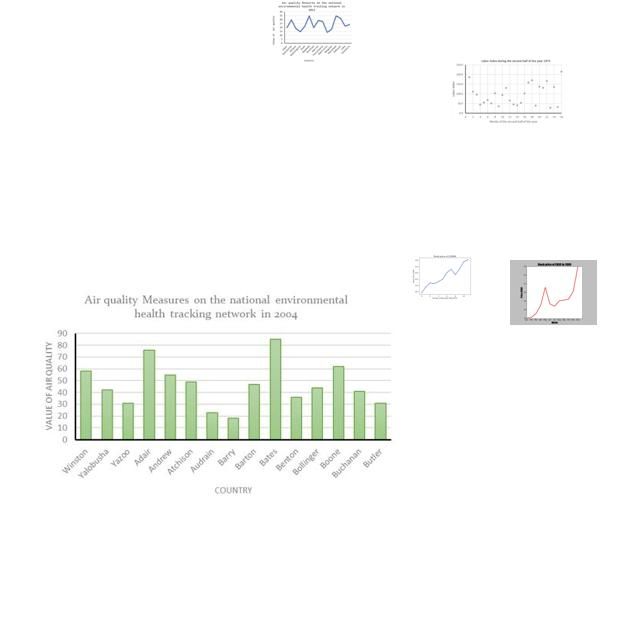Graph: (35, 290, 399, 499), (451, 58, 565, 124), (510, 260, 597, 325), (268, 0, 356, 63), (411, 251, 477, 301)
